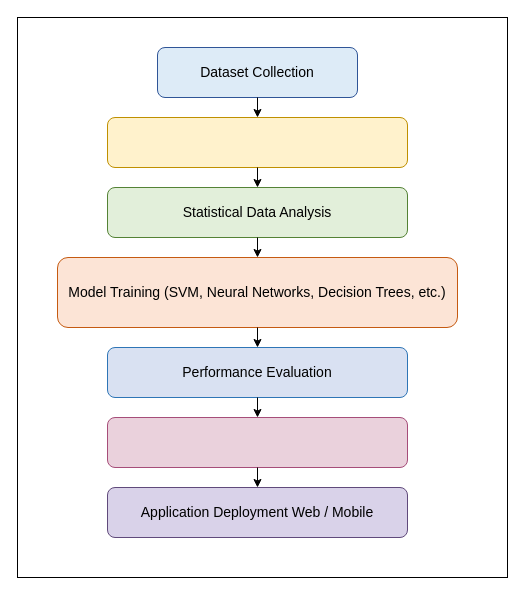
Some shapes in this 525 by 595 pixel diagram are drawn without their labels. Each missing label, with the centre of its shape:
"Data Cleaning & Transformation" belongs at [257,142].
"Model Integration (API)" belongs at [257,442].
